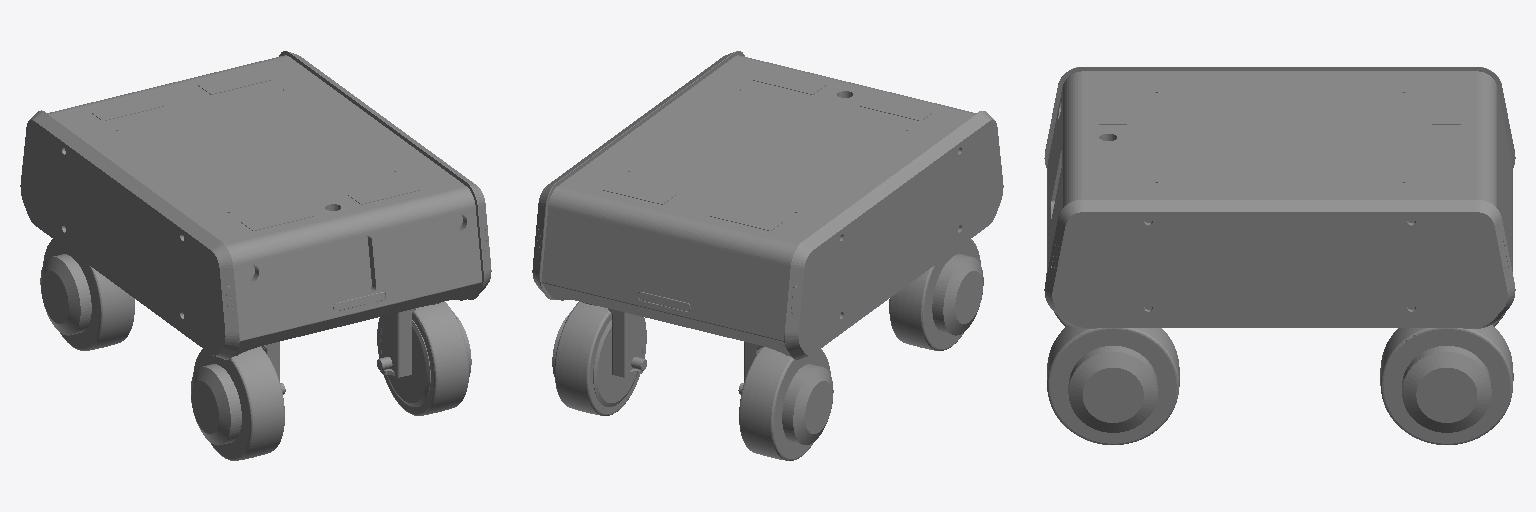
robot.urdf — fwmini:
<?xml version="1.0" ?>
<robot name="fwmini">
  <!-- Base Link -->
  <link name="base_link">
    <visual>
      <geometry>
        <mesh filename="package://yhs_chassis_description/meshes/chassis.stl" scale="0.001 0.001 0.001"/>
      </geometry>
      <origin rpy="1.5707963267948963 0 0" xyz="0.0 0.0 0.0"/>
      <material name="gray">
        <color rgba="0.6 0.6 0.6 1.0"/>
      </material>
    </visual>
    <collision>
      <origin rpy="1.5707963267948963 0 0" xyz="0.0 0.0 0.0"/>
      <geometry>
        <box size="0.35 0.33 0.49" />
      </geometry>
    </collision>
  </link>
<!-- falang003 -->
  <link name="falang003">
    <visual>
      <geometry>
        <mesh filename="package://yhs_chassis_description/meshes/falang003.stl" scale="0.001 0.001 0.001"/>
      </geometry>
      <origin rpy="1.5707963267948963 0 0" xyz="-0.125 -0.175 0.026"/>
      <material name="gray">
        <color rgba="0.6 0.6 0.6 1.0"/>
      </material>
    </visual>
  </link>
  <!-- falang007 -->
  <link name="falang007">
    <visual>
      <geometry>
        <mesh filename="package://yhs_chassis_description/meshes/falang007.stl" scale="0.001 0.001 0.001"/>
      </geometry>
      <origin rpy="1.5707963267948963 0 0" xyz="0.125 -0.175 0.026"/>
      <material name="gray">
        <color rgba="0.6 0.6 0.6 1.0"/>
      </material>
    </visual>
  </link>
  <!-- falang011 -->
  <link name="falang011">
    <visual>
      <geometry>
        <mesh filename="package://yhs_chassis_description/meshes/falang011.stl" scale="0.001 0.001 0.001"/>
      </geometry>
      <origin rpy="1.5707963267948963 0 0" xyz="-0.125 0.175 0.026"/>
      <material name="gray">
        <color rgba="0.6 0.6 0.6 1.0"/>
      </material>
    </visual>
  </link>
  <!-- falang015 -->
  <link name="falang015">
    <visual>
      <geometry>
        <mesh filename="package://yhs_chassis_description/meshes/falang015.stl" scale="0.001 0.001 0.001"/>
      </geometry>
      <origin rpy="1.5707963267948963 0 0" xyz="0.125 0.175 0.026"/>
      <material name="gray">
        <color rgba="0.6 0.6 0.6 1.0"/>
      </material>
    </visual>
  </link>


 <!-- lunzi -->
  <link name="lunzi">
    <visual>
      <geometry>
        <mesh filename="package://yhs_chassis_description/meshes/lunzi.stl" scale="0.001 0.001 0.001"/>
      </geometry>
      <origin rpy="1.5707963267948963 0 0" xyz=" -0.099 -0.175 0.1085"/>
      <material name="gray">
        <color rgba="0.6 0.6 0.6 1.0"/>
      </material>
    </visual>
  </link>
  <!-- lunzi002 -->
  <link name="lunzi002">
    <visual>
      <geometry>
        <mesh filename="package://yhs_chassis_description/meshes/lunzi002.stl" scale="0.001 0.001 0.001"/>
      </geometry>
      <origin rpy="1.5707963267948963 0 0" xyz="-0.125 -0.175 0.03"/>
      <material name="gray">
        <color rgba="0.6 0.6 0.6 1.0"/>
      </material>
    </visual>
  </link>
    <!-- lunzi004 -->
  <link name="lunzi004">
    <visual>
      <geometry>
        <mesh filename="package://yhs_chassis_description/meshes/lunzi004.stl" scale="0.001 0.001 0.001"/>
      </geometry>
      <origin rpy="1.5707963267948963 0 0" xyz="0.099 -0.175 0.1085 "/>
      <material name="gray">   
        <color rgba="0.6 0.6 0.6 1.0"/>
      </material>
    </visual>
  </link>
  <!-- lunzi006 -->
  <link name="lunzi006">
    <visual>
      <geometry>
        <mesh filename="package://yhs_chassis_description/meshes/lunzi006.stl" scale="0.001 0.001 0.001"/>
      </geometry>
      <origin rpy="1.5707963267948963 0 0" xyz="0.125 -0.175 0.03"/>
      <material name="gray">   
        <color rgba="0.6 0.6 0.6 1.0"/>
      </material>
    </visual>
  </link>
  <!-- lunzi008 -->
  <link name="lunzi008">
    <visual>
      <geometry>
        <mesh filename="package://yhs_chassis_description/meshes/lunzi008.stl" scale="0.001 0.001 0.001"/>
      </geometry>
      <origin rpy="1.5707963267948963 0 0" xyz="-0.099 0.175 0.1085 "/>
      <material name="gray">   
        <color rgba="0.6 0.6 0.6 1.0"/>
      </material>
    </visual>
  </link>
  <!-- lunzi010 -->
  <link name="lunzi010">
    <visual>
      <geometry>
        <mesh filename="package://yhs_chassis_description/meshes/lunzi010.stl" scale="0.001 0.001 0.001"/>
      </geometry>
      <origin rpy="1.5707963267948963 0 0" xyz="-0.125 0.175 0.03"/>
      <material name="gray">   
        <color rgba="0.6 0.6 0.6 1.0"/>
      </material>
    </visual>
  </link>
  <!-- lunzi012 -->
  <link name="lunzi012">
    <visual>
      <geometry>
        <mesh filename="package://yhs_chassis_description/meshes/lunzi012.stl" scale="0.001 0.001 0.001"/>
      </geometry>
      <origin rpy="1.5707963267948963 0 0" xyz="0.099 0.175 0.1085 "/>
      <material name="gray">   
        <color rgba="0.6 0.6 0.6 1.0"/>
      </material>
    </visual>
  </link>
  <!-- lunzi014 -->
  <link name="lunzi014">
    <visual>
      <geometry>
        <mesh filename="package://yhs_chassis_description/meshes/lunzi014.stl" scale="0.001 0.001 0.001"/>
      </geometry>
      <origin rpy="1.5707963267948963 0 0" xyz="0.125 0.175 0.03"/>
      <material name="gray">   
        <color rgba="0.6 0.6 0.6 1.0"/>
      </material>
    </visual>
  </link>

  <joint name="robot_to_falang003" type="fixed">
    <parent link="base_link"/>
    <child link="falang003"/>
    <origin rpy="0 0 0" xyz="0.125 0.17507 -0.019"/>
    <axis xyz="0 0 1"/>
  </joint>

  <joint name="robot_to_falang007" type="fixed">
    <parent link="base_link"/>
    <child link="falang007"/>
    <origin rpy="0 0 0" xyz="-0.125 0.17493 -0.019 "/>
    <axis xyz="0 0 1"/>
  </joint>

  <joint name="robot_to_falang011" type="fixed">
    <parent link="base_link"/>
    <child link="falang011"/>
    <origin rpy="0 0 0" xyz="0.125 -0.17493 -0.019"/>
    <axis xyz="0 0 1"/>
  </joint>

  <joint name="robot_to_falang015" type="fixed">
    <parent link="base_link"/>
    <child link="falang015"/>
    <origin rpy="0 0 0" xyz="-0.125 -0.17507 -0.019  "/>
    <axis xyz="0 0 1"/>
  </joint>

  <joint name="falang003_to_lunzi002" type="continuous">
    <parent link="falang003"/>
    <child link="lunzi002"/>
    <origin rpy="0 0 0" xyz="0.0 0.0 0.0"/>
    <axis xyz="0 0 1"/>
  </joint>

  <joint name="falang007_to_lunzi006" type="continuous">
    <parent link="falang007"/>
    <child link="lunzi006"/>
    <origin rpy="0 0 0" xyz="0.0 0.0 0.00"/>
    <axis xyz="0 0 1"/>
  </joint>

  <joint name="falang011_to_lunzi010" type="continuous">
    <parent link="falang011"/>
    <child link="lunzi010"/>
    <origin rpy="0 0 0" xyz="0.0 0.0 0.00"/>
    <axis xyz="0 0 1"/>
  </joint>

    <joint name="falang015_to_lunzi014" type="continuous">
    <parent link="falang015"/>
    <child link="lunzi014"/>
    <origin rpy="0 0 0" xyz="0.0 0.0 0.00"/>
    <axis xyz="0 0 1"/>
  </joint>

  <joint name="lunzi002_to_lunzi" type="continuous">
    <parent link="lunzi002"/>
    <child link="lunzi"/>
    <origin rpy="0 0 0" xyz=" -0.027 0.0 -0.077"/>
    <axis xyz="1 0 0"/>
  </joint>

  <joint name="lunzi006_to_lunzi004" type="continuous">
    <parent link="lunzi006"/>
    <child link="lunzi004"/>
    <origin rpy="0 0 0" xyz="0.027 0.0 -0.077"/>
    <axis xyz="1 0 0"/>
  </joint>

  <joint name="lunzi010_to_lunzi008" type="continuous">
    <parent link="lunzi010"/>
    <child link="lunzi008"/>
    <origin rpy="0 0 0" xyz="-0.027 0.0 -0.077"/>
    <axis xyz="1 0 0"/>
  </joint>

  <joint name="lunzi014_to_lunzi012" type="continuous">
    <parent link="lunzi014"/>
    <child link="lunzi012"/>
    <origin rpy="0 0 0" xyz="0.027 0.0 -0.077"/>
    <axis xyz="1 0 0"/>
  </joint>


</robot>

--- What the picture shows (computed from the rendered views, not written in the file) ---
3 views of the same robot in one strip: view 1: azimuth 30°, elevation 25°; view 2: azimuth 150°, elevation 25°; view 3: azimuth 270°, elevation 25° (orthographic).
Robot: fwmini — 13 links, 12 joints (8 continuous, 4 fixed); root link base_link; default pose: every joint at zero.
Visible links, largest first — view 1: base_link, lunzi012, lunzi004, lunzi008, lunzi010, falang015, falang003, falang007, falang011; view 2: base_link, lunzi004, lunzi012, lunzi, lunzi002, falang007, falang011, falang015, falang003; view 3: base_link, lunzi, lunzi008, falang007, falang011, falang015, falang003.
Boxes of the visible links, box(x1,y1,x2,y2) form: base_link: box(20, 51, 491, 359); lunzi012: box(191, 346, 285, 460); lunzi004: box(40, 239, 134, 350); lunzi008: box(377, 301, 471, 415); lunzi010: box(380, 302, 440, 377); falang015: box(240, 207, 313, 230); falang003: box(198, 70, 270, 94); falang007: box(90, 97, 163, 120); falang011: box(348, 180, 421, 204); base_link: box(532, 51, 1003, 359); lunzi004: box(738, 346, 833, 460); lunzi012: box(889, 239, 983, 350); lunzi: box(552, 301, 646, 415); lunzi002: box(582, 302, 642, 377); falang007: box(710, 207, 783, 230); falang011: box(753, 70, 825, 94); falang015: box(860, 97, 933, 120); falang003: box(602, 180, 675, 204); base_link: box(1044, 67, 1515, 328); lunzi: box(1380, 325, 1513, 444); lunzi008: box(1047, 325, 1179, 444); falang007: box(1432, 91, 1460, 124); falang011: box(1099, 150, 1127, 182); falang015: box(1099, 91, 1126, 124); falang003: box(1433, 150, 1460, 182).
Size in the robot's own frame: 0.358 by 0.4941 by 0.2945 metres.
Meshes: 13 distinct files referenced, 13 mesh visuals loaded (13 binary STL).
